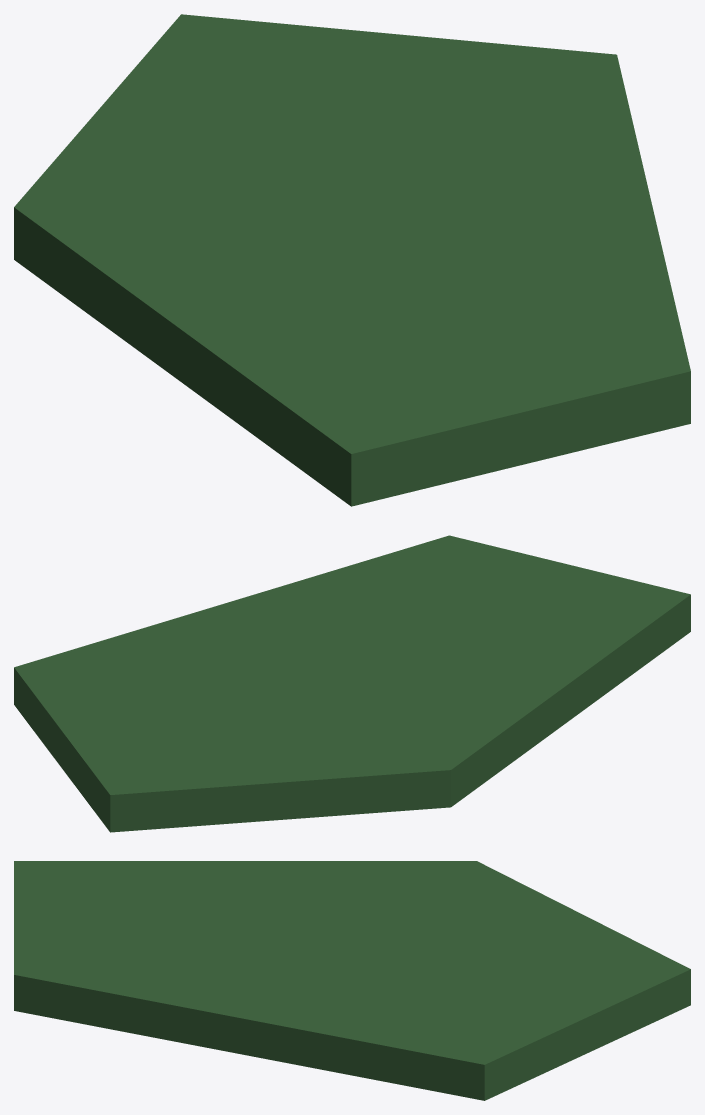
Rendered from x_proval_00_158_1_rmstrd.fbx.
3 renders of one model, top to bottom at view 1: azimuth 30°, elevation 25°; view 2: azimuth 150°, elevation 25°; view 3: azimuth 270°, elevation 25°, orthographic. The views are drawn at different scales.
Parts seen in each view (by area): view 1: x_proval_00_158_1_rmstrd1; view 2: x_proval_00_158_1_rmstrd1; view 3: x_proval_00_158_1_rmstrd1.
Part boxes in pixels (x1=…): x_proval_00_158_1_rmstrd1: x1=14, y1=14, x2=690, y2=506; x_proval_00_158_1_rmstrd1: x1=14, y1=535, x2=690, y2=832; x_proval_00_158_1_rmstrd1: x1=14, y1=861, x2=690, y2=1100.
Bounding box in the file's own units: 2.42 × 0.2 × 3.4.
